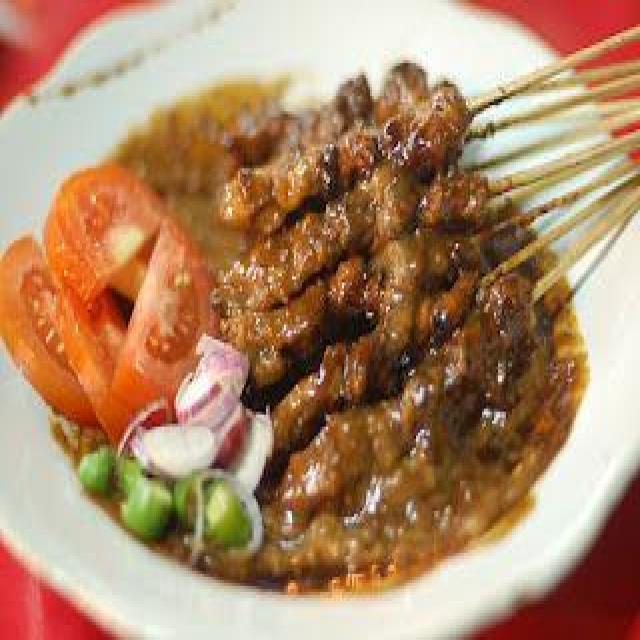Sate: (204, 45, 640, 490)
